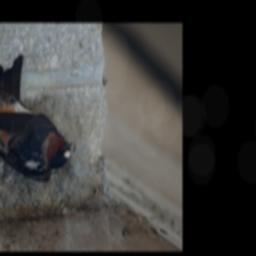Swallow: (0, 55, 74, 185)
